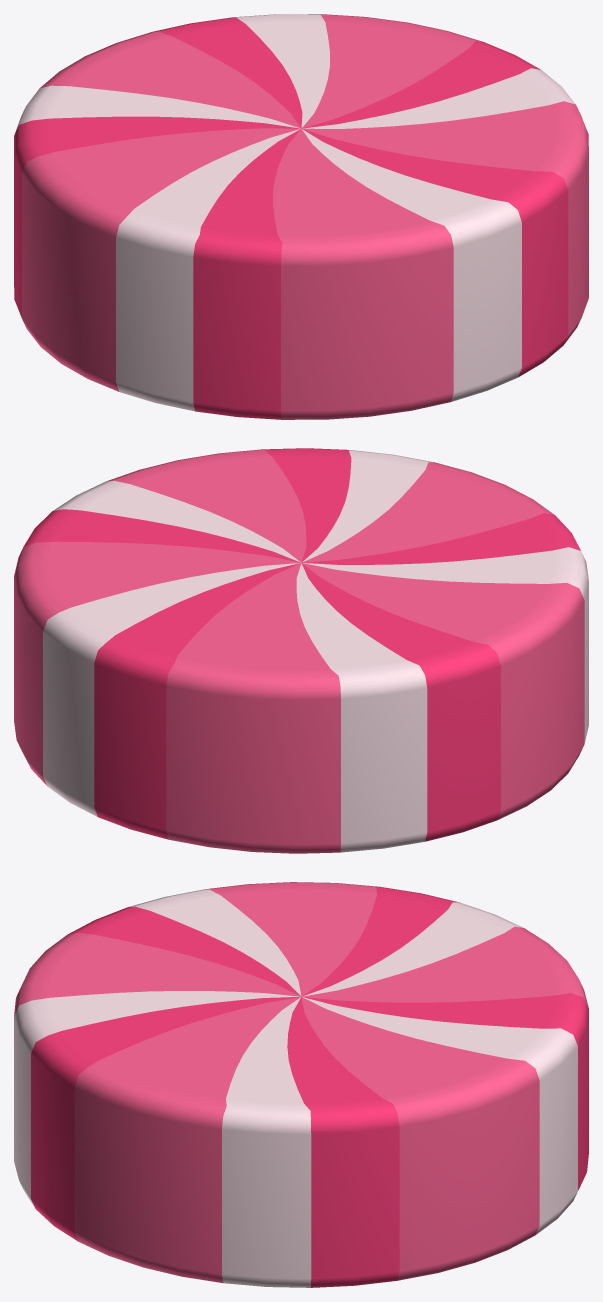
The model's file is Store_8_Candy_1.glb.
The picture shows the model from 3 angles, top to bottom: view 1: azimuth 30°, elevation 25°; view 2: azimuth 150°, elevation 25°; view 3: azimuth 270°, elevation 25°; orthographic projection.
Visible parts, largest first — view 1: Store_8_Candy_1; view 2: Store_8_Candy_1; view 3: Store_8_Candy_1.
Part boxes in pixels (box(x1,y1,x2,y2)): Store_8_Candy_1: box(14, 14, 588, 419); Store_8_Candy_1: box(14, 448, 588, 853); Store_8_Candy_1: box(14, 882, 588, 1287).
Size of the model in its own units: 0.5026 by 0.17 by 0.5022.
Materials: 1 (1 with a texture image).
